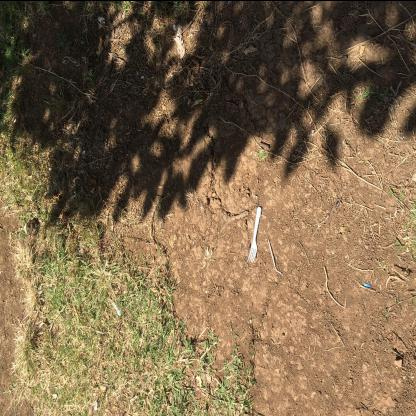plastik: (247, 204, 262, 262), (268, 239, 282, 273)
